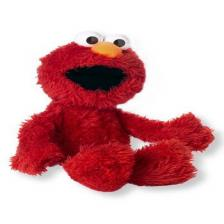red: (11, 32, 214, 192)
